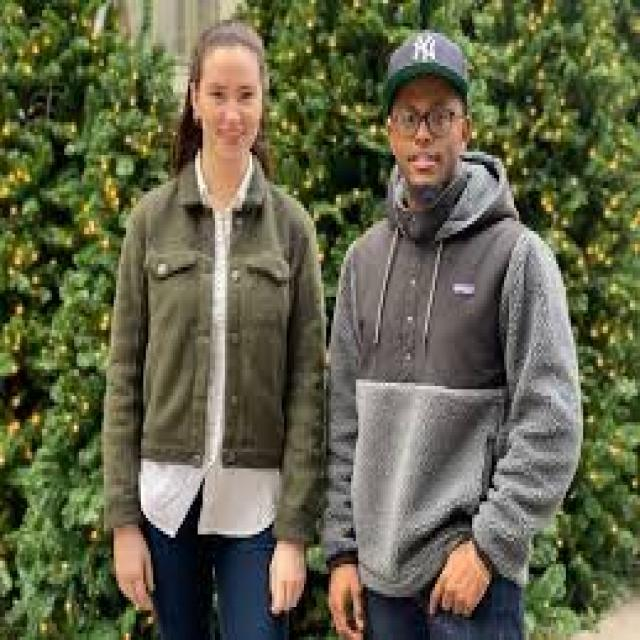Jacket: (321, 170, 582, 603), (98, 157, 331, 569)
